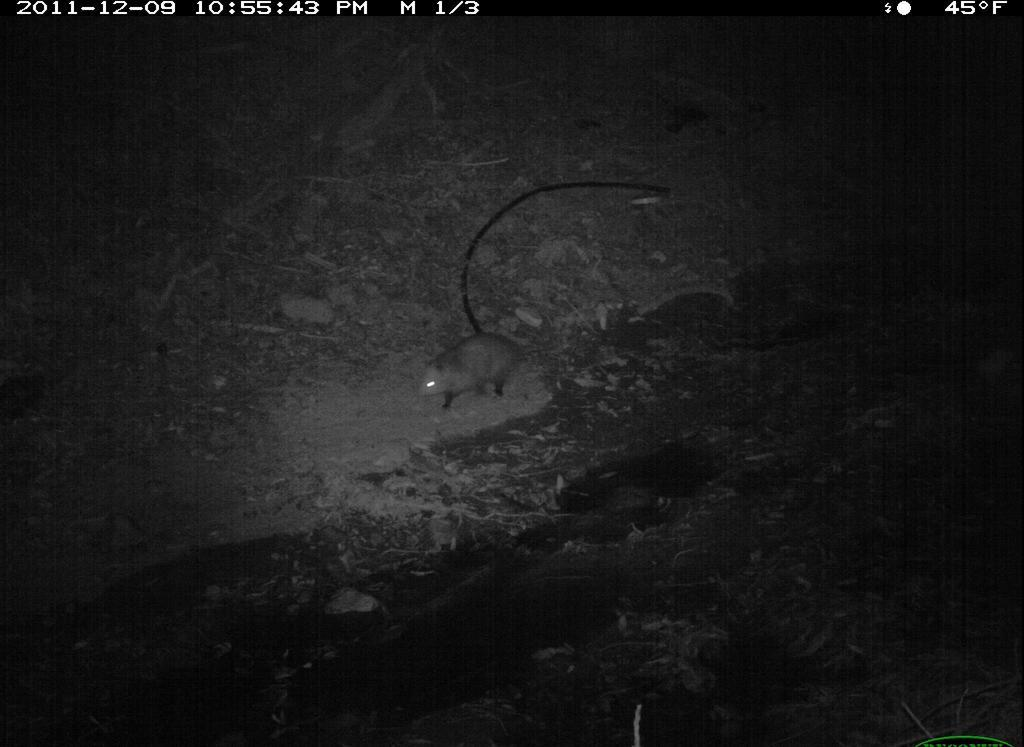opossum: (410, 324, 564, 422)
